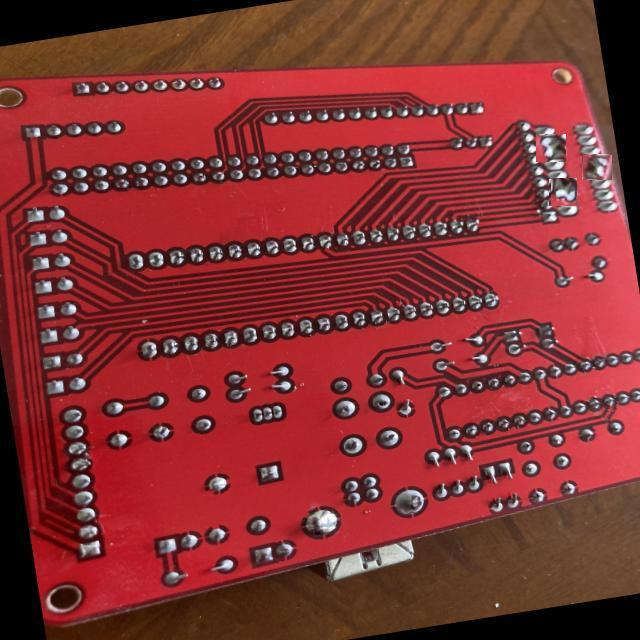damged: (536, 134, 566, 162), (582, 154, 612, 180), (550, 179, 577, 206)
